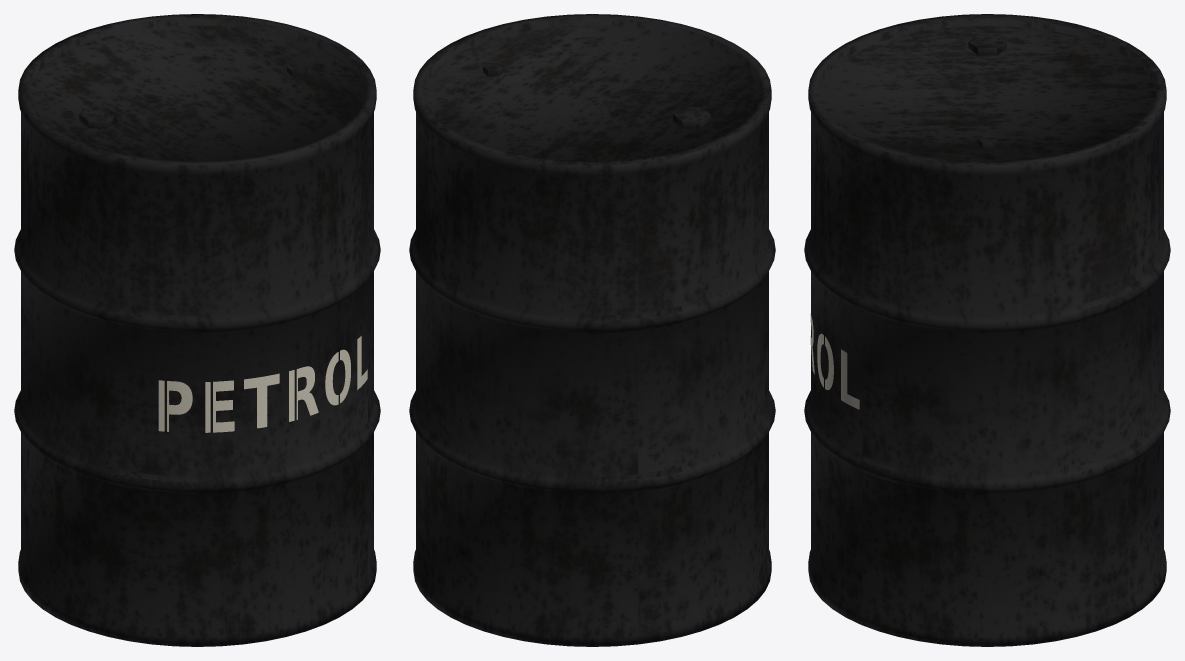
File: steel-drum-petrol.glb
3 views of the same model, side by side, from view 1: azimuth 30°, elevation 25°; view 2: azimuth 150°, elevation 25°; view 3: azimuth 270°, elevation 25° (orthographic).
Parts seen in each view (by area): view 1: steel-drum-petrol-body, stencil; view 2: steel-drum-petrol-body; view 3: steel-drum-petrol-body, stencil.
Part boxes in pixels (bbox=[...]): steel-drum-petrol-body: bbox=[14, 14, 380, 646]; stencil: bbox=[158, 336, 367, 432]; steel-drum-petrol-body: bbox=[409, 14, 775, 646]; steel-drum-petrol-body: bbox=[804, 14, 1170, 646]; stencil: bbox=[810, 313, 859, 409].
Bounding box in the file's own units: 0.607 × 0.88 × 0.607.
Materials: 2 (2 with a texture image).
